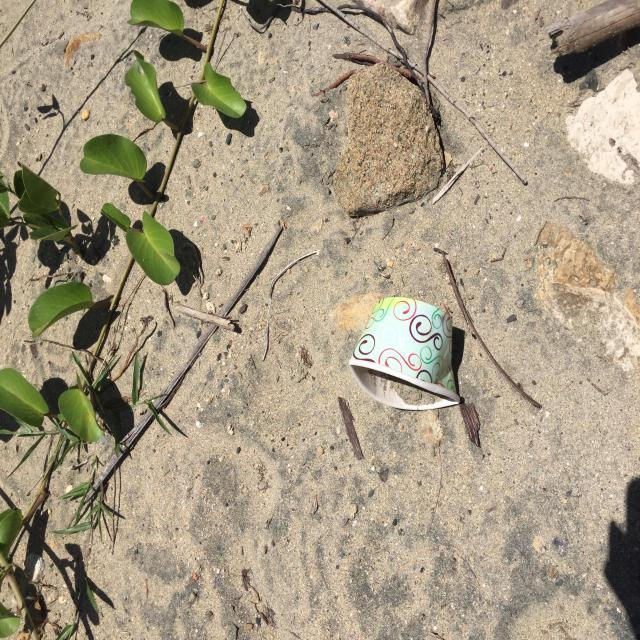litter: (349, 297, 457, 405)
